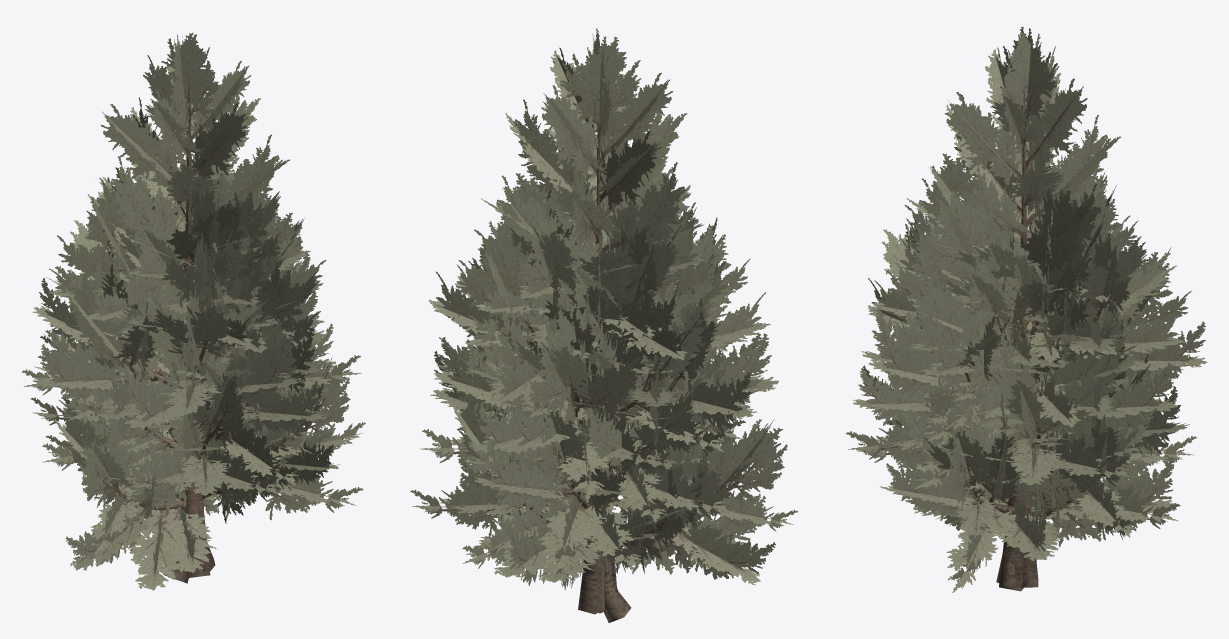
Rendered from JuniperusOccidentalis.glb.
The picture shows the model from 3 angles, left to right: view 1: azimuth 30°, elevation 25°; view 2: azimuth 150°, elevation 25°; view 3: azimuth 270°, elevation 25°; orthographic projection. The views are drawn at different scales.
Parts seen in each view (by area): view 1: Western_Juniper__Realistic_LOD3; view 2: Western_Juniper__Realistic_LOD3; view 3: Western_Juniper__Realistic_LOD3.
Boxes of the visible parts, x1,y1,x2,y2 form: Western_Juniper__Realistic_LOD3: [21, 33, 365, 590]; Western_Juniper__Realistic_LOD3: [410, 28, 797, 622]; Western_Juniper__Realistic_LOD3: [845, 27, 1207, 592].
Bounding box in the file's own units: 6.46 × 10.79 × 6.49.
1 material, 1 textured.
